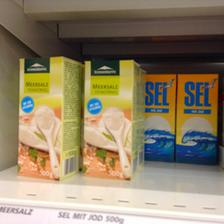Gewuerze: (15, 54, 81, 180), (81, 58, 139, 182), (174, 73, 218, 165)
